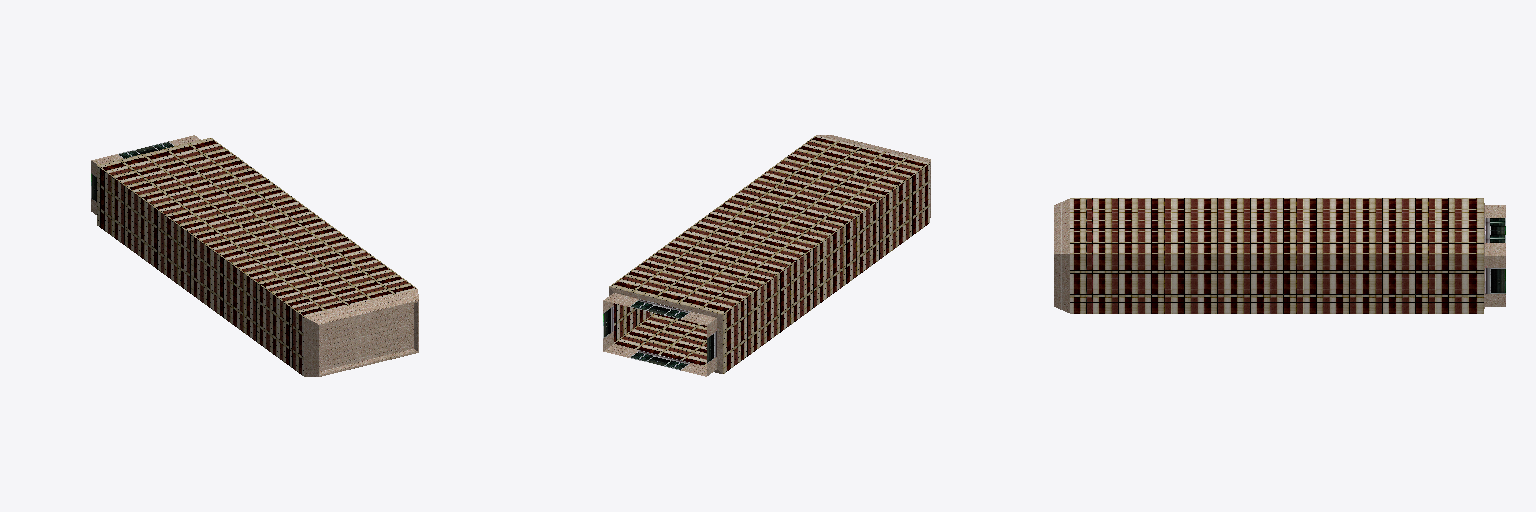
3 views of the same model, side by side, from view 1: azimuth 30°, elevation 25°; view 2: azimuth 150°, elevation 25°; view 3: azimuth 270°, elevation 25° (orthographic).
Parts seen in each view (by area): view 1: Object24; view 2: Object24; view 3: Object24.
Boxes of the visible parts, x1,y1,x2,y2 form: Object24: [91, 135, 418, 376]; Object24: [603, 135, 930, 376]; Object24: [1054, 198, 1505, 313].
Bounding box in the file's own units: 40 × 20 × 137.
3 materials, 3 textured.